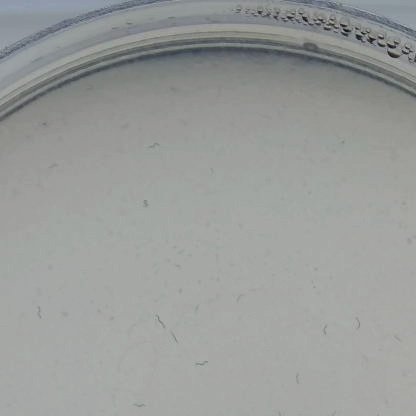worm: (191, 349, 215, 368), (136, 191, 155, 214), (39, 157, 61, 176), (130, 395, 152, 411), (351, 310, 364, 337), (228, 290, 250, 305), (164, 332, 187, 346), (35, 300, 47, 326), (389, 330, 407, 346), (153, 311, 168, 330), (142, 139, 163, 152), (293, 370, 307, 387), (321, 317, 332, 338), (320, 407, 345, 416), (187, 304, 200, 321)
